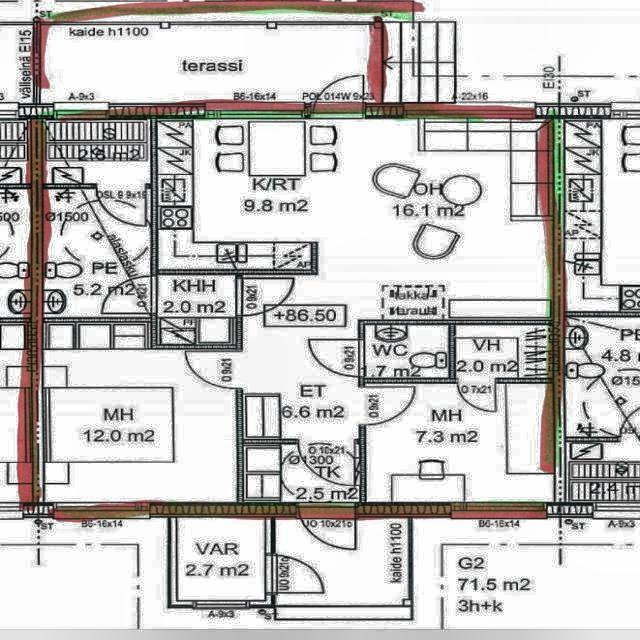room: (44, 322, 237, 503), (365, 383, 554, 503), (44, 189, 151, 317), (177, 517, 265, 600), (43, 119, 151, 184), (243, 444, 359, 502), (158, 275, 236, 345), (455, 325, 553, 378), (365, 325, 449, 378)
